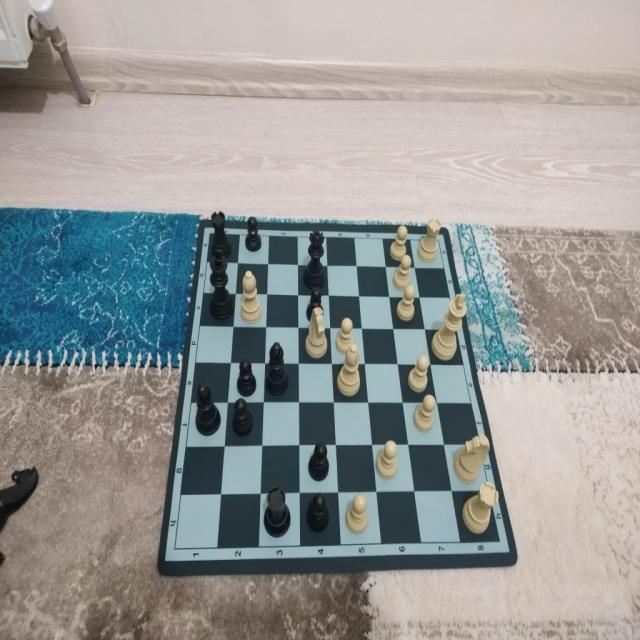chess-table-corners: (492, 532, 513, 561), (171, 531, 191, 556), (202, 224, 214, 238), (438, 230, 447, 244)
